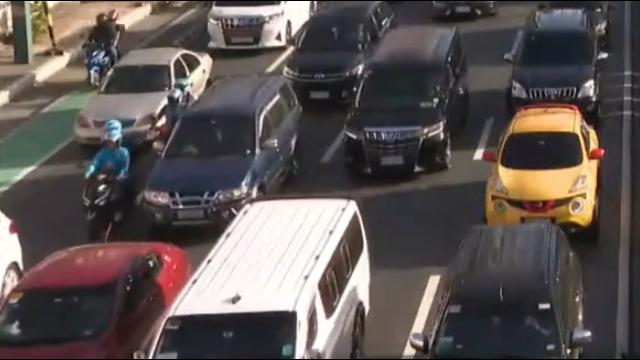car: (409, 220, 592, 360), (145, 76, 301, 225), (0, 241, 195, 360), (484, 105, 605, 242), (73, 48, 215, 146), (284, 0, 393, 107), (507, 9, 608, 116), (535, 0, 613, 40), (427, 0, 501, 19)
motorcycle: (79, 120, 136, 243), (80, 7, 129, 89)
van: (134, 197, 376, 360), (343, 24, 474, 178), (207, 0, 318, 53)
